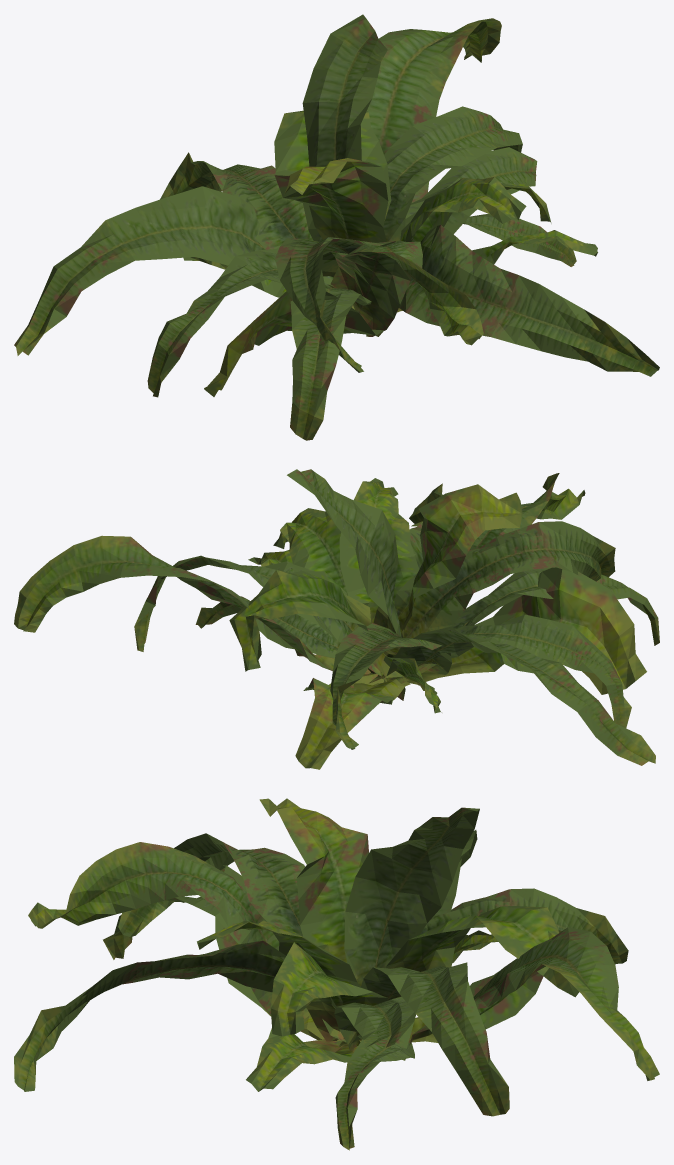
Rendered from fern.glb.
3 views of the same model, one above another, from view 1: azimuth 30°, elevation 25°; view 2: azimuth 150°, elevation 25°; view 3: azimuth 270°, elevation 25° (orthographic). The views are drawn at different scales.
Size of the model in its own units: 0.9897 by 0.4277 by 0.8937.
Materials: 1 (1 with a texture image).
